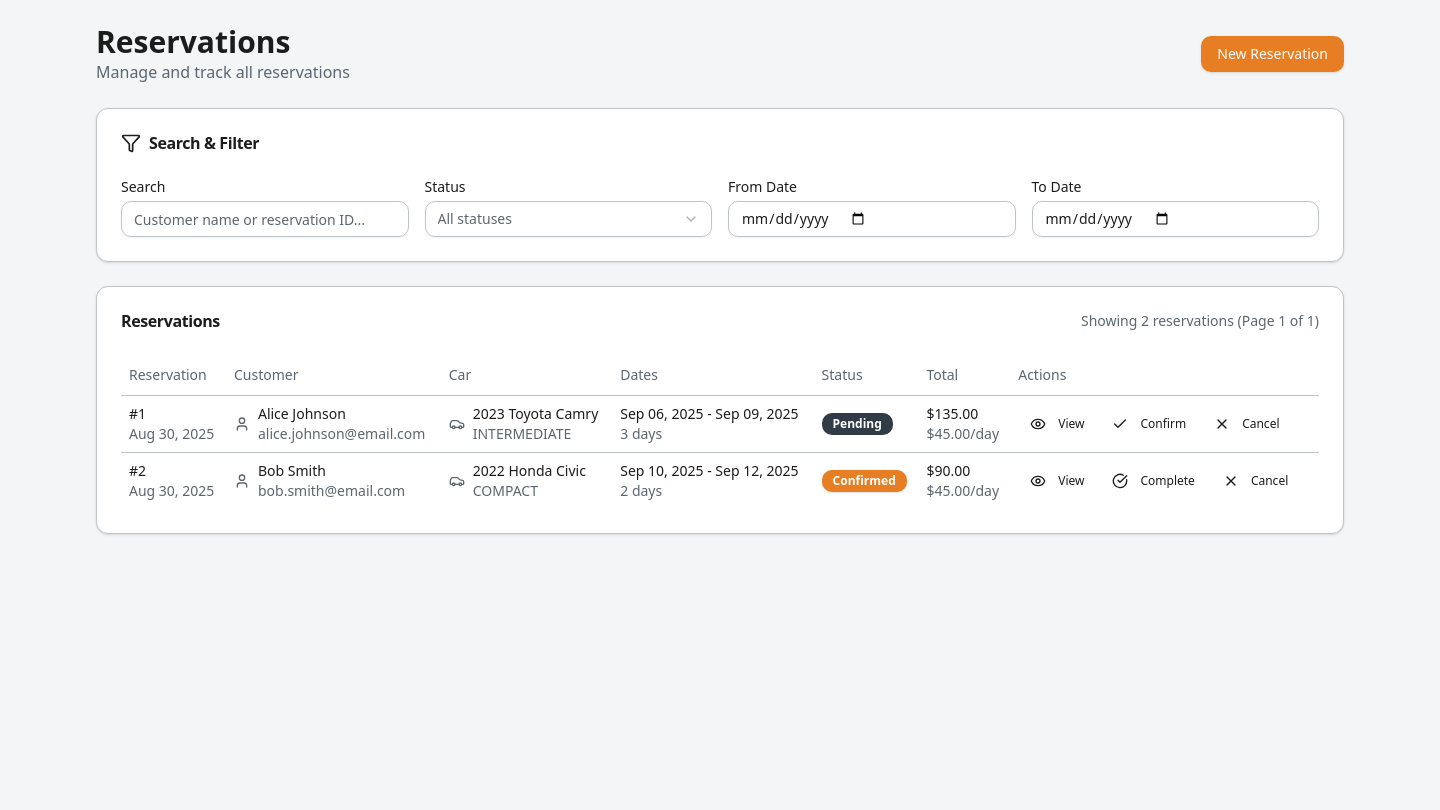
Test case: ReservationsPage › opens reservation details dialog when view button is clicked
The image size is (1440, 810).
Expected: the text "Alice Johnson" is shown, [258,404,346,422]
Click the button "View" in the row of "Alice Johnson" at (1057, 424), box [1018,408,1096,440]
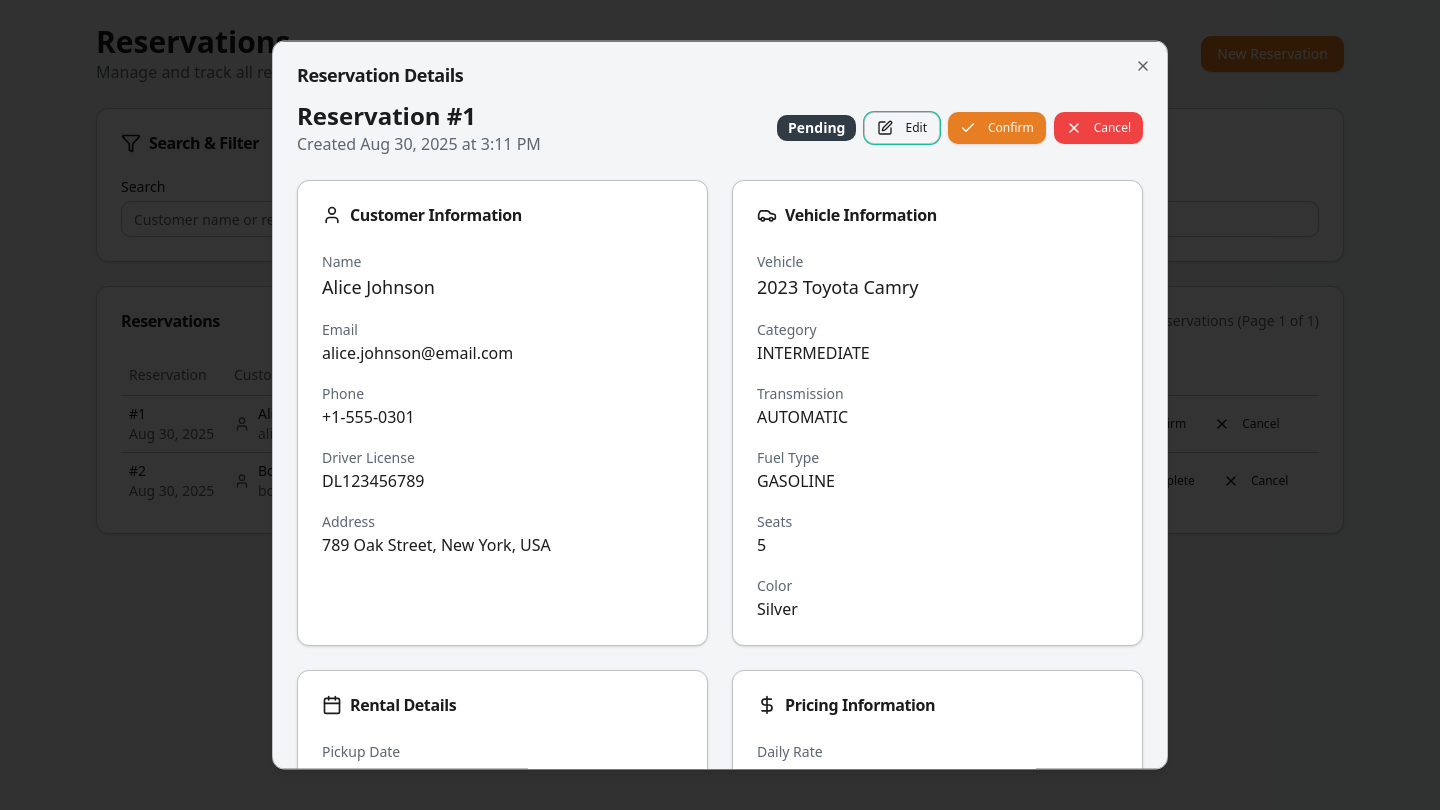
Result: the heading "Reservation Details" is shown at [297,62,463,86]
Result: the heading "Reservation #1" is shown at [297,98,476,132]
